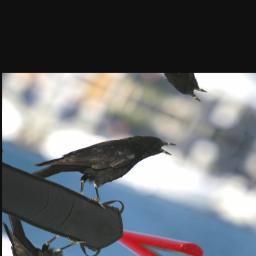Crow: (25, 99, 180, 224)
